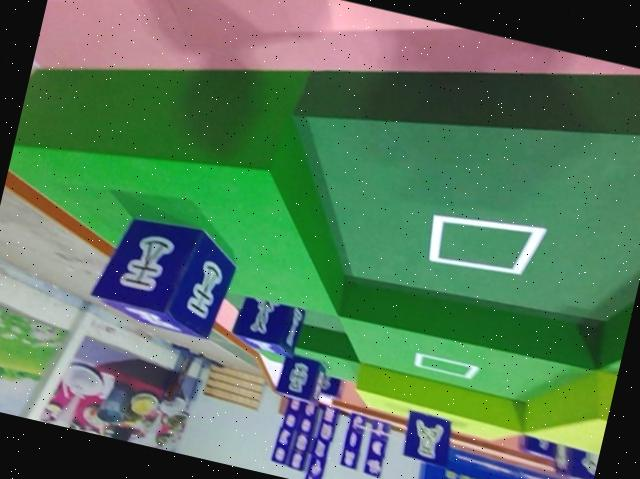R2 Real Blue: (85, 205, 240, 340), (229, 289, 306, 356), (396, 407, 454, 467), (276, 351, 334, 405), (552, 441, 599, 479)
